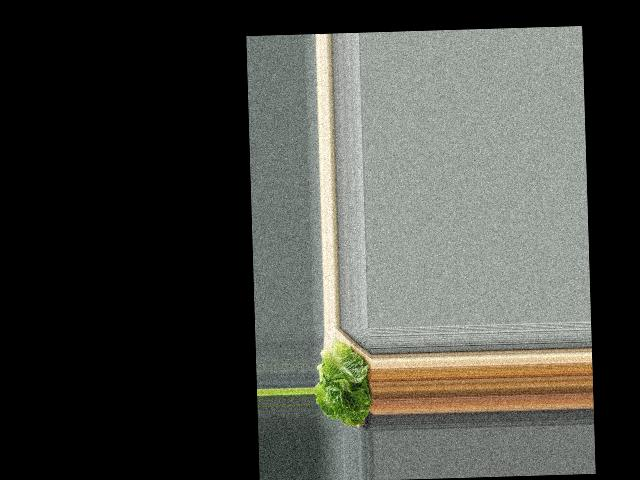lettuce: (313, 340, 374, 429)
